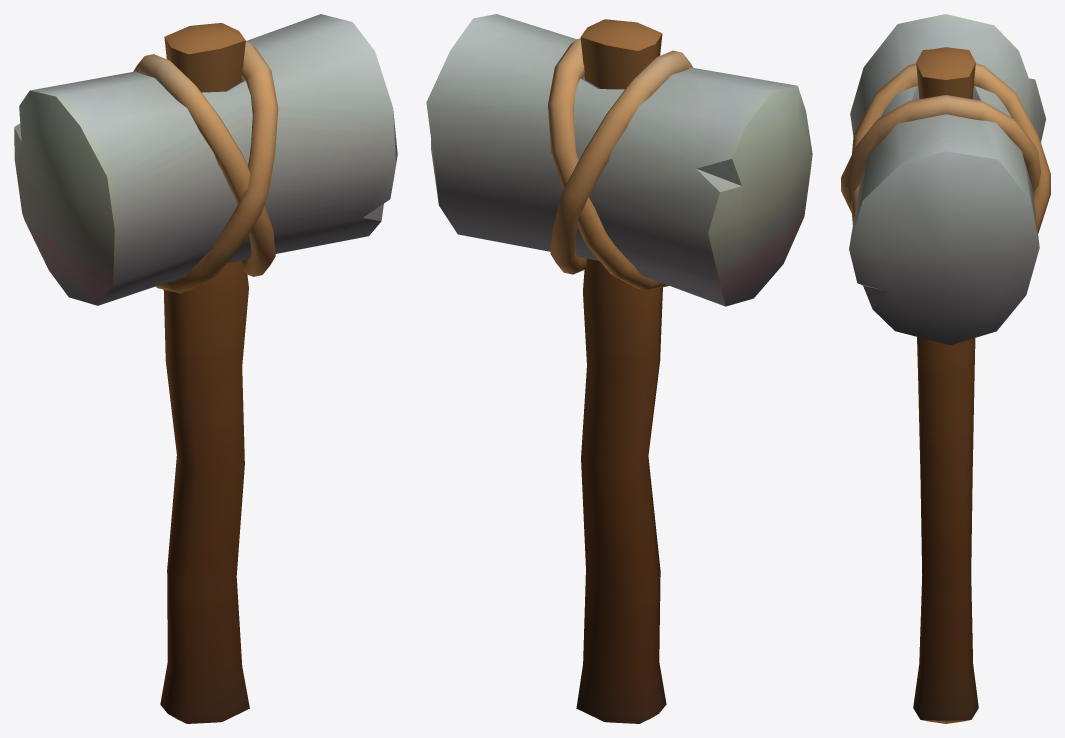
Rendered from Hammer_01.glb.
3 views of the same model, side by side, from view 1: azimuth 30°, elevation 25°; view 2: azimuth 150°, elevation 25°; view 3: azimuth 270°, elevation 25° (orthographic). The views are drawn at different scales.
Visible parts, largest first — view 1: Hammer_01; view 2: Hammer_01; view 3: Hammer_01.
Boxes of the visible parts, x1,y1,x2,y2 form: Hammer_01: (14,14,397,723); Hammer_01: (426,14,812,723); Hammer_01: (841,14,1050,723).
Size of the model in its own units: 0.5018 by 1.03 by 0.2975.
1 material, 1 textured.
